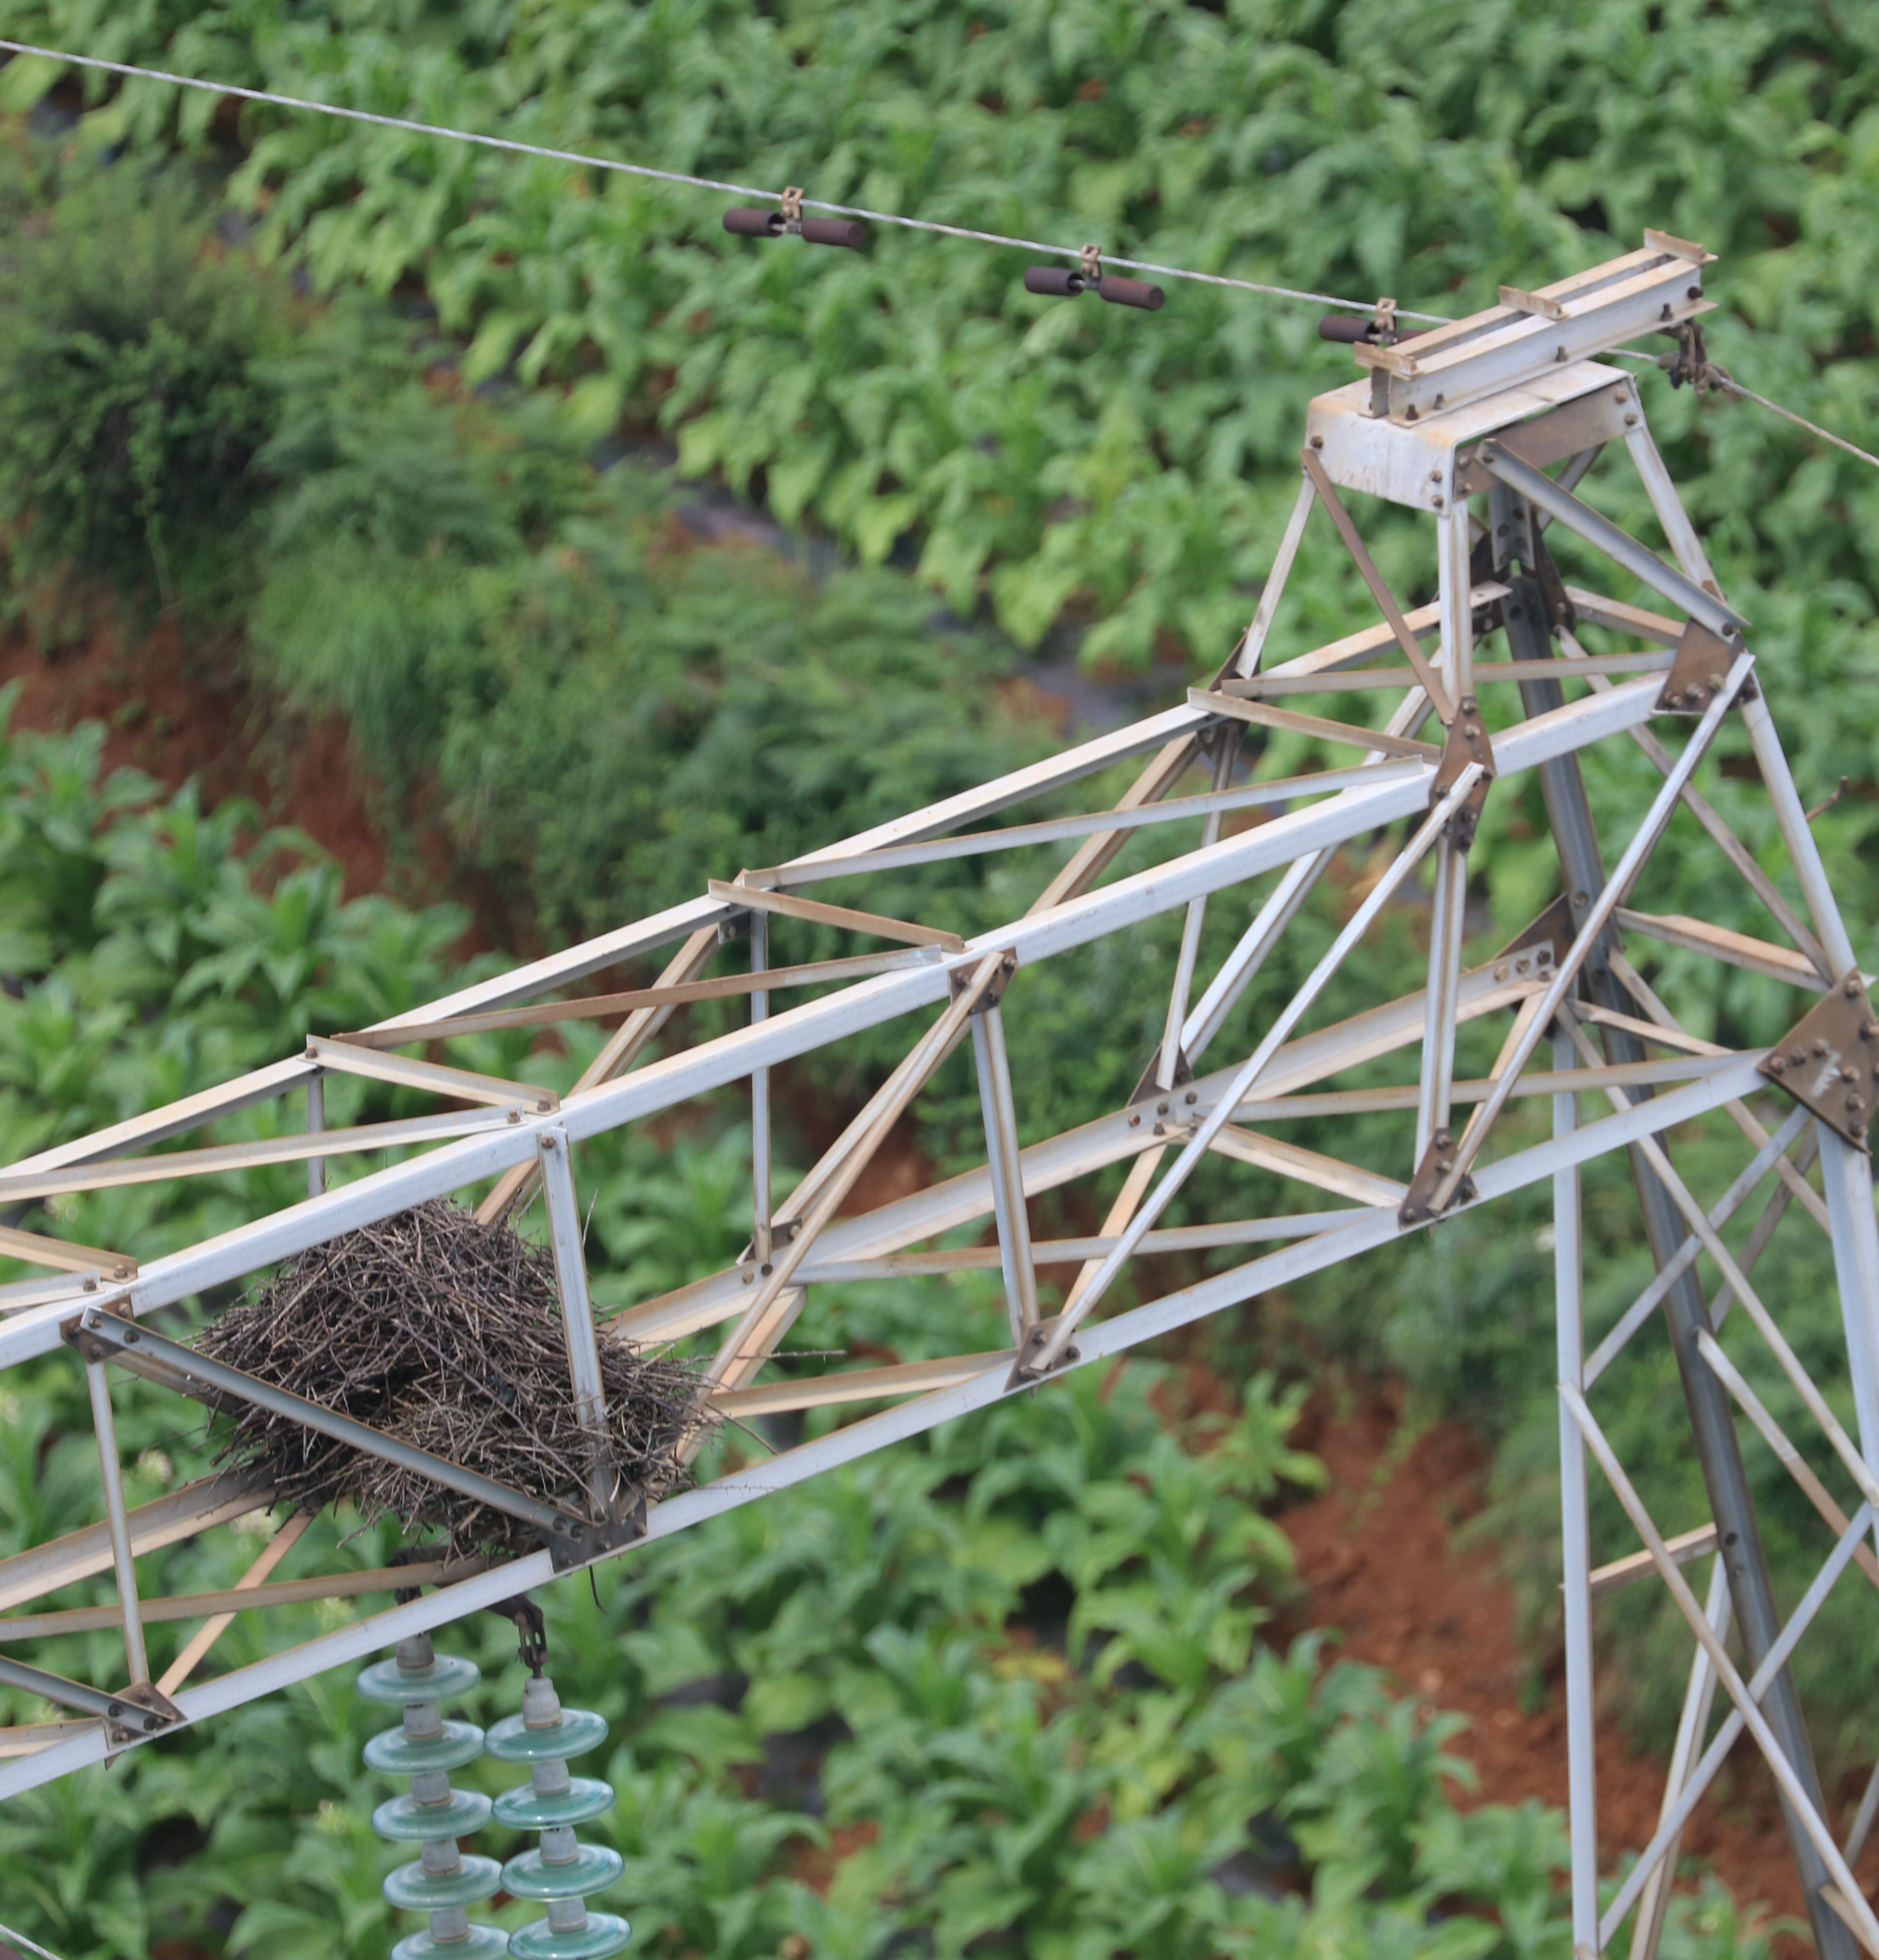niaowo: (208, 1193, 719, 1629)
